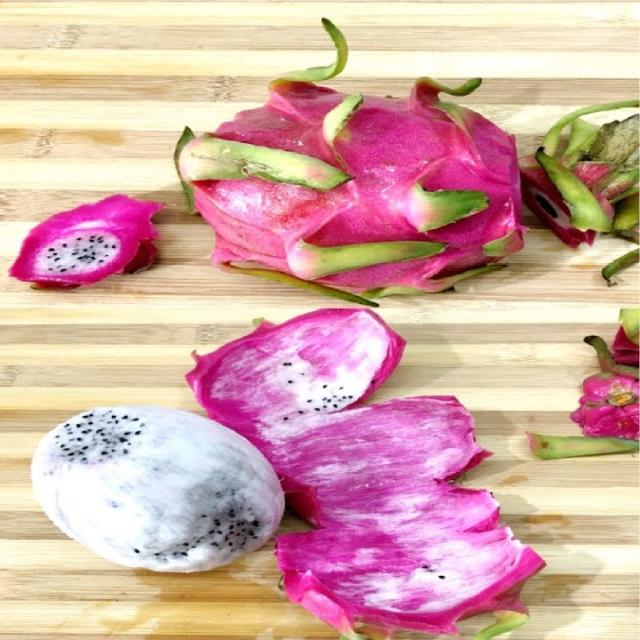organic: (182, 308, 546, 640), (172, 17, 529, 309), (32, 406, 284, 573), (8, 194, 164, 292)
